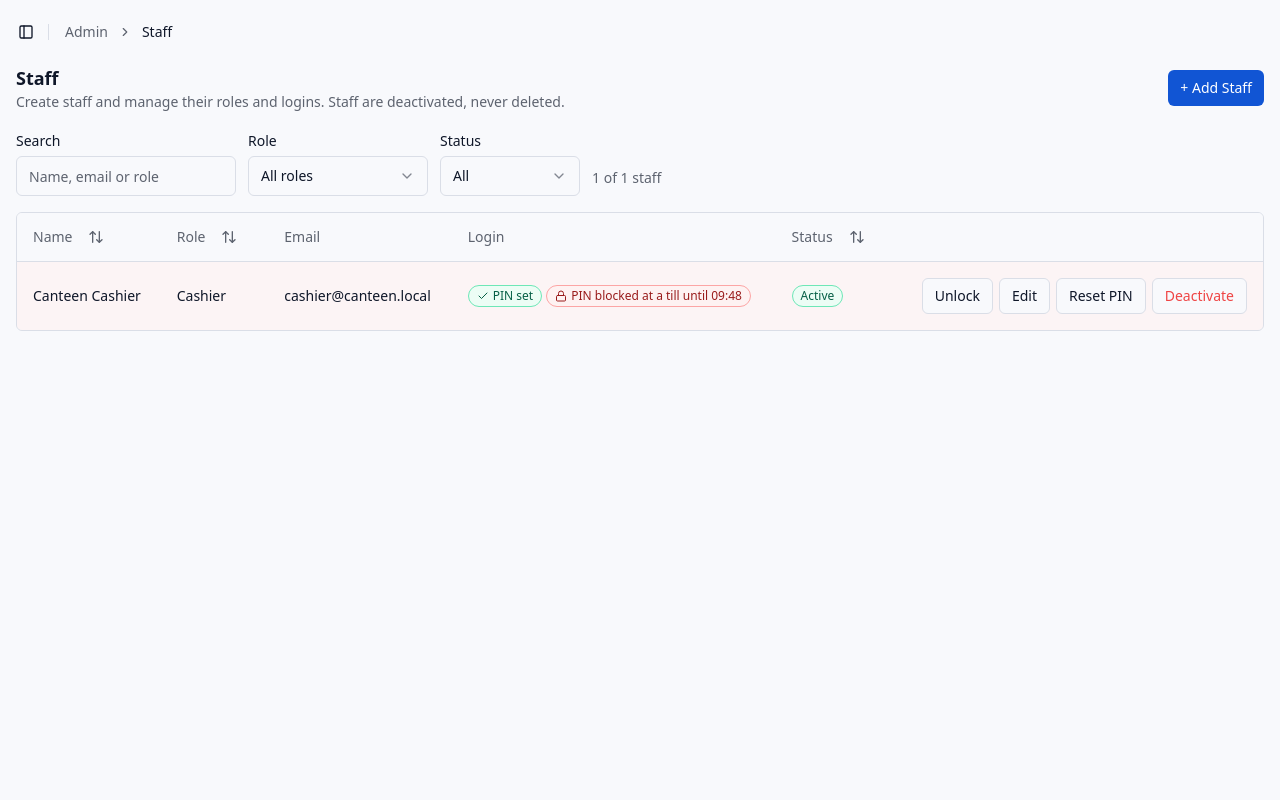
Test case: Staff page with short-term blocks from the backend › lists what will be cleared in the confirmation, and unlocks with no body
Expected: the text "Canteen Cashier" is shown, [33,286,141,304]
Click the button "Unlock" at x=957, y=296, box [922,278,993,314]
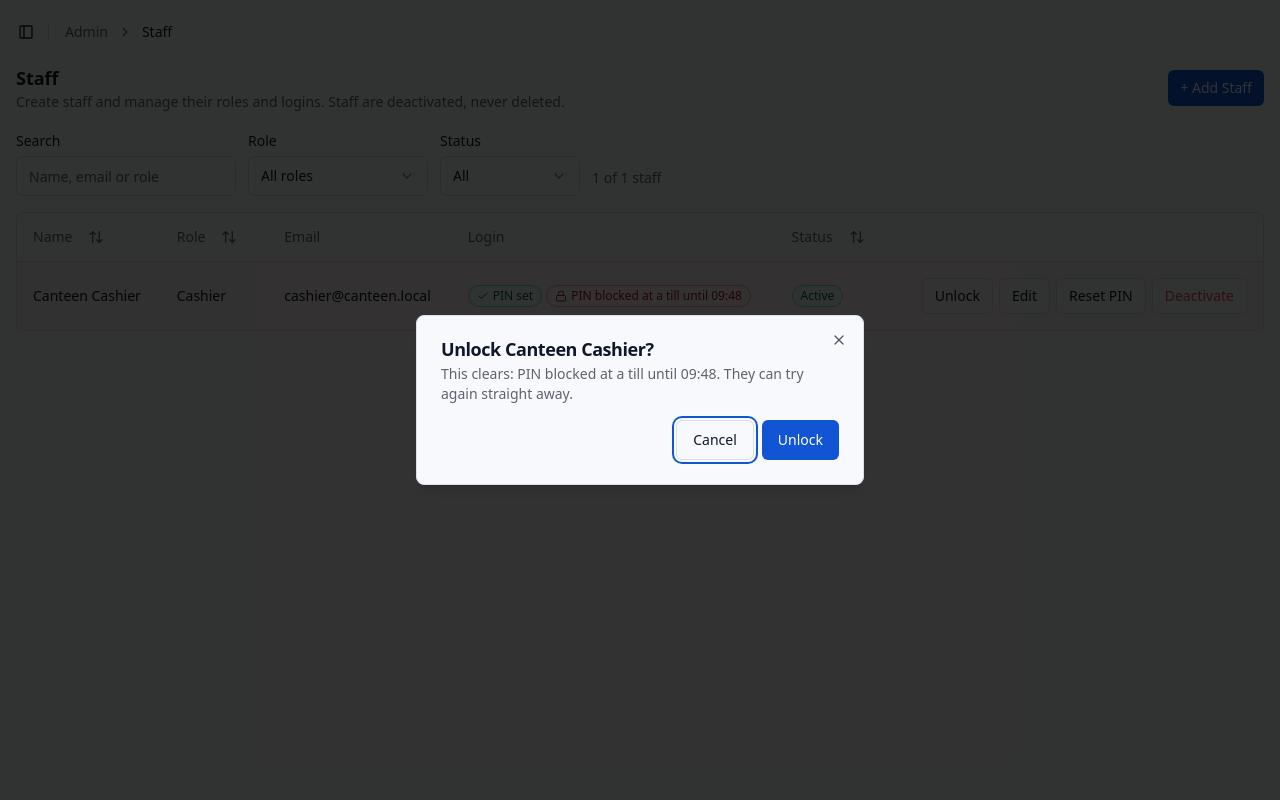
Click the button "Unlock" at x=800, y=440, box [762,420,839,460]
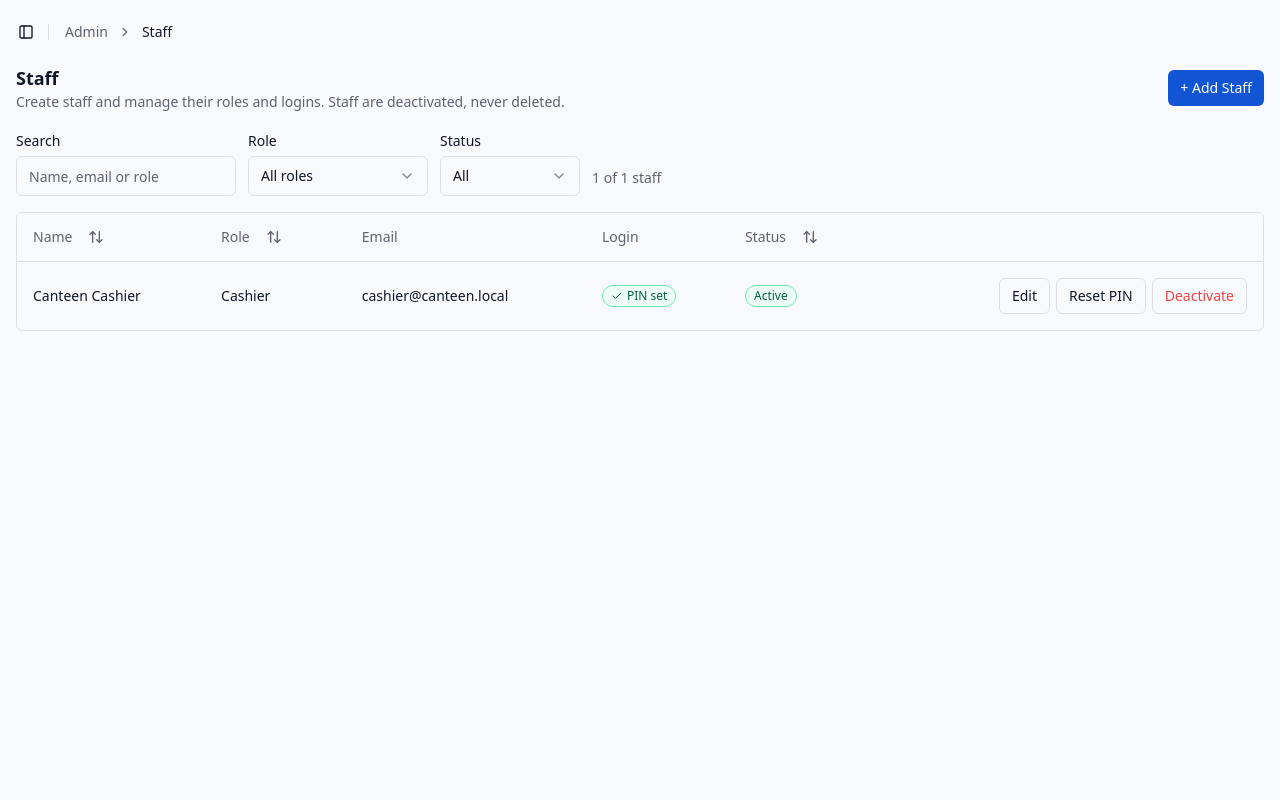
Expected: the text "blocked" is gone
Expected: the button "Unlock" is gone
